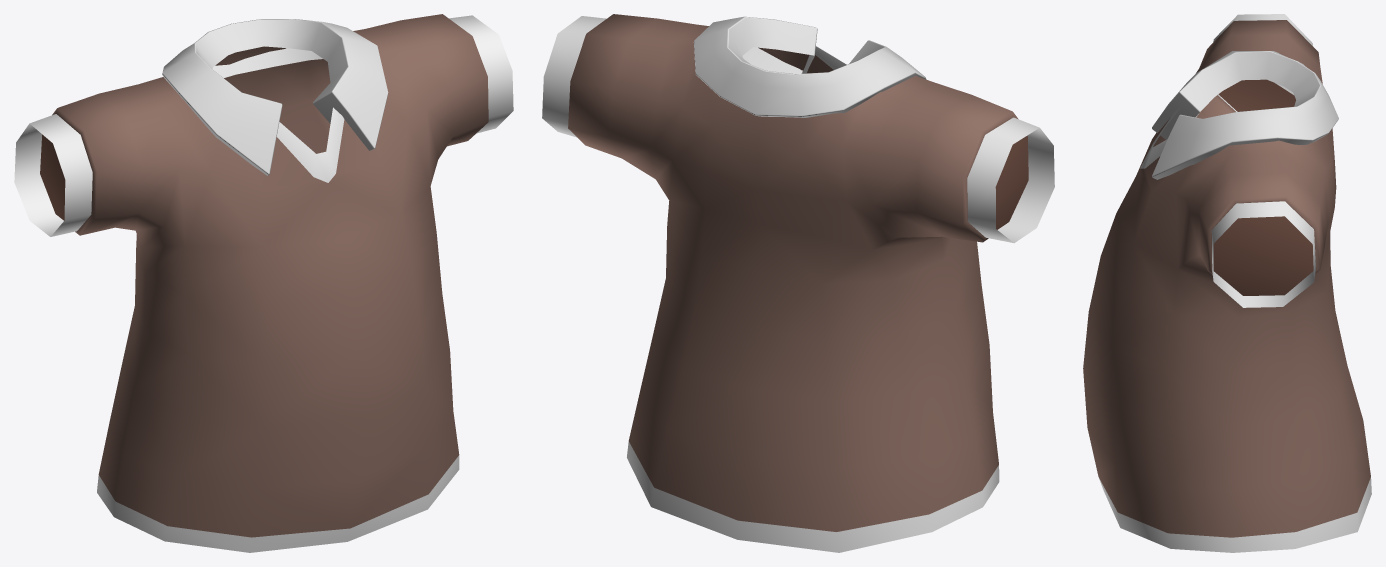
File: Outerwear_Brown_016.glb
The picture shows the model from 3 angles, left to right: view 1: azimuth 30°, elevation 25°; view 2: azimuth 150°, elevation 25°; view 3: azimuth 270°, elevation 25°; orthographic projection. The views are drawn at different scales.
Visible parts, largest first — view 1: Outerwear_Brown_016; view 2: Outerwear_Brown_016; view 3: Outerwear_Brown_016.
Boxes of the visible parts, bbox=[...] form: Outerwear_Brown_016: bbox=[14, 14, 513, 552]; Outerwear_Brown_016: bbox=[542, 14, 1054, 552]; Outerwear_Brown_016: bbox=[1083, 14, 1371, 552].
Size of the model in its own units: 0.6893 by 0.6487 by 0.41.
1 material, 1 textured.
